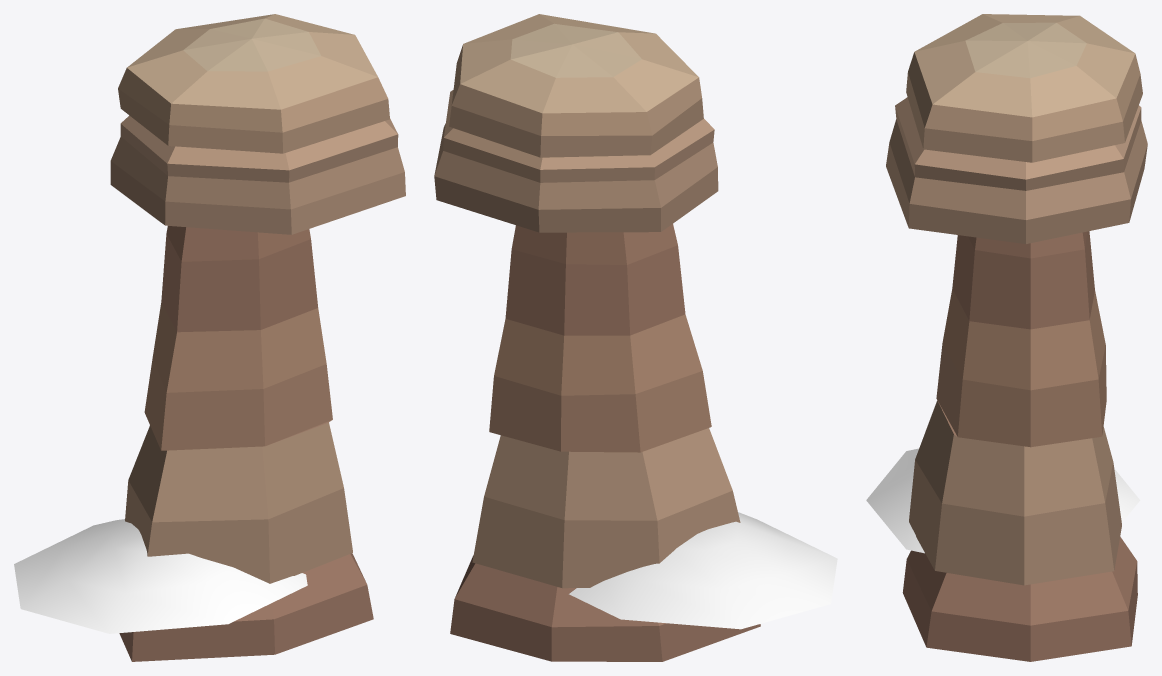
Rendered from roca_canon_d_ligero.glb.
3 views of the same model, side by side, from view 1: azimuth 30°, elevation 25°; view 2: azimuth 150°, elevation 25°; view 3: azimuth 270°, elevation 25° (orthographic).
Parts seen in each view (by area): view 1: roca_canon_d, roca_canon_d_arena; view 2: roca_canon_d, roca_canon_d_arena; view 3: roca_canon_d, roca_canon_d_arena.
Boxes of the visible parts, bbox=[...] form: roca_canon_d: bbox=[110, 14, 405, 661]; roca_canon_d_arena: bbox=[14, 519, 307, 633]; roca_canon_d: bbox=[434, 14, 760, 661]; roca_canon_d_arena: bbox=[569, 512, 837, 629]; roca_canon_d: bbox=[886, 14, 1147, 661]; roca_canon_d_arena: bbox=[866, 448, 1140, 553].
Size of the model in its own units: 4.77 by 6.89 by 3.08.
